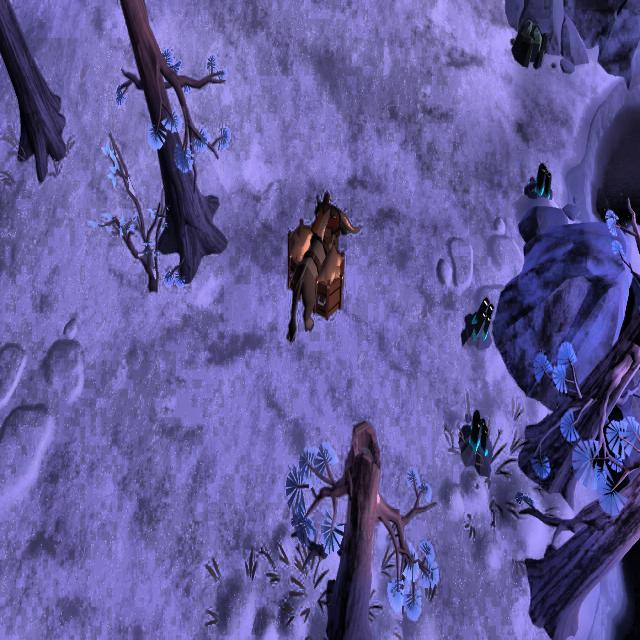ore_t4: (466, 292, 494, 343), (466, 408, 491, 461), (534, 160, 552, 201)
rock_t3: (504, 22, 552, 72)
